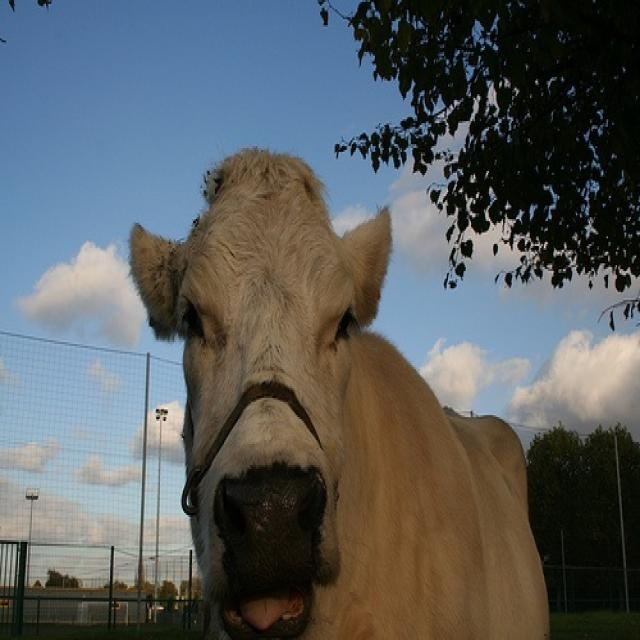cow: (127, 144, 553, 638)
